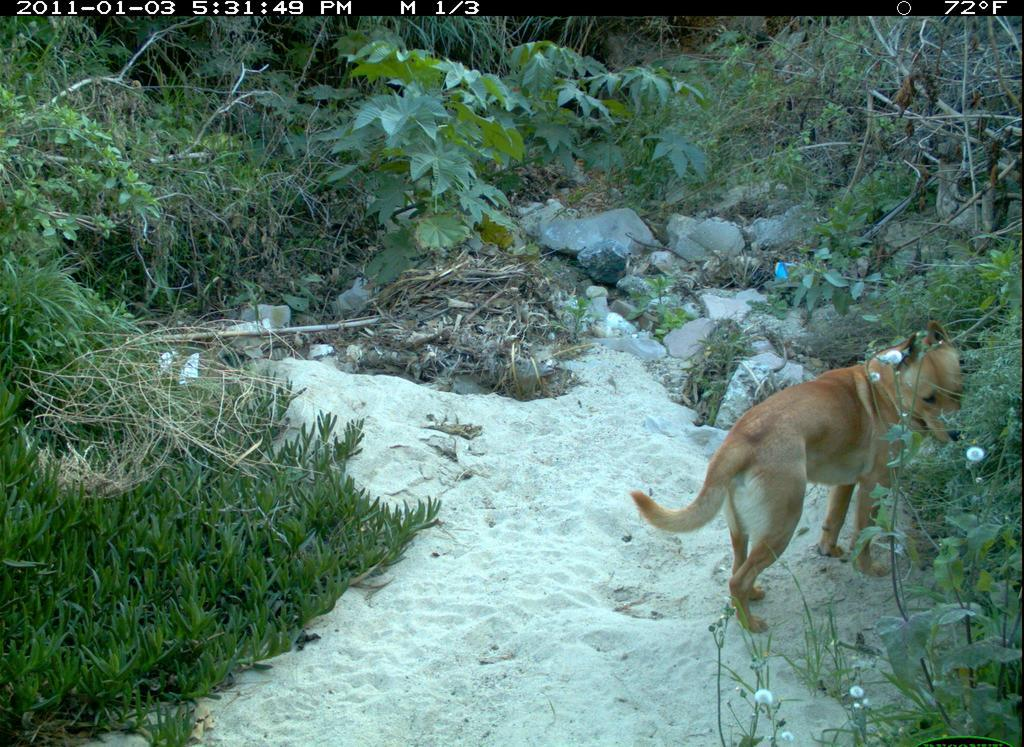dog: (614, 318, 977, 647)
